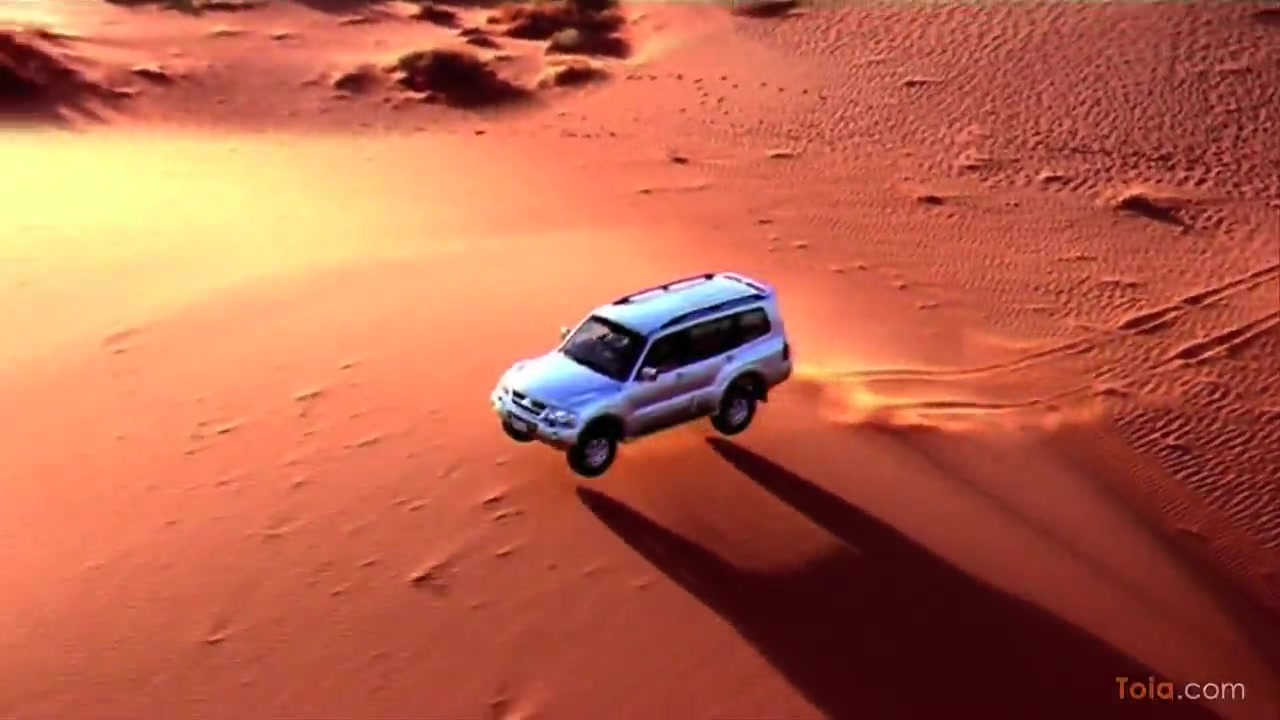car: (490, 272, 795, 478)
